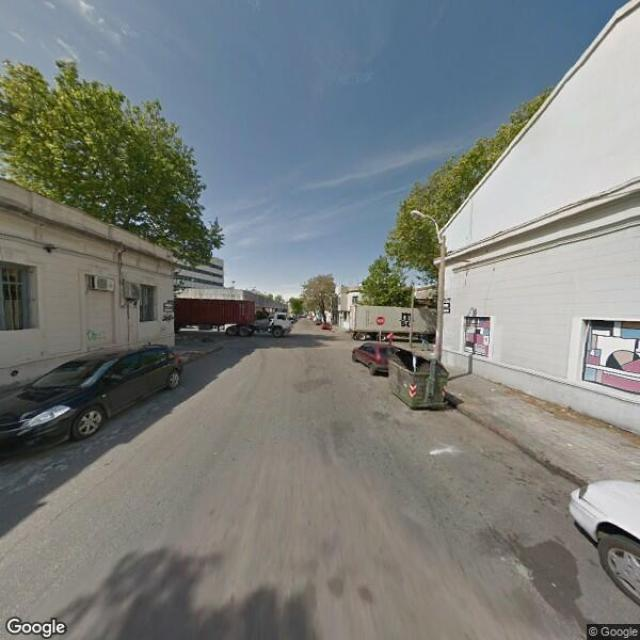garbage container: (383, 348, 461, 420)
